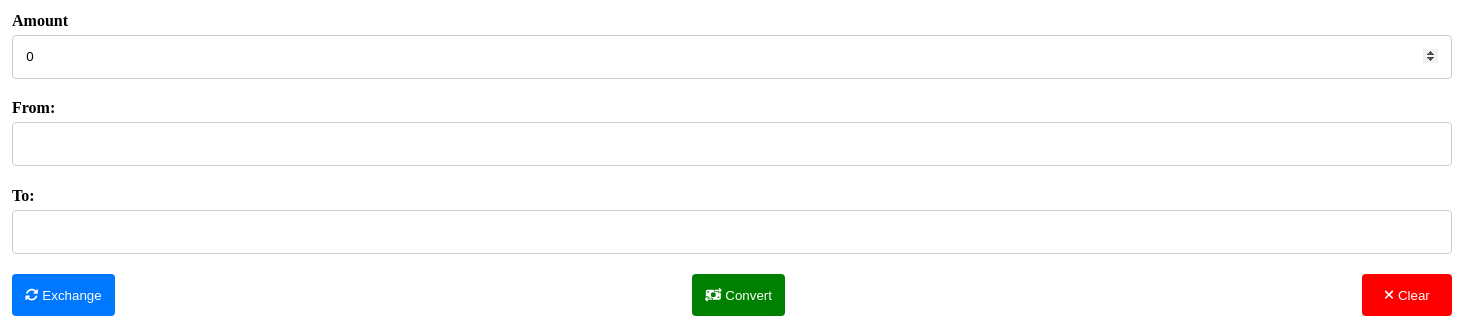
Test: currenciesForm Component › check if button clean if work
Replace the text in the number field labelled "Amount" with "20" at (732, 57), box [12, 35, 1452, 79]
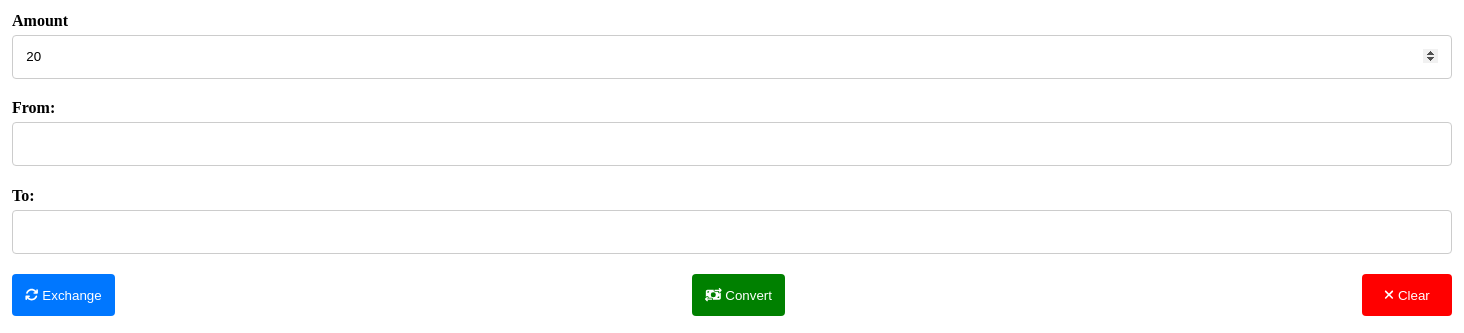
Type "ALL - Albanian Lek" into the field labelled "From:" at (732, 144), box [12, 122, 1452, 166]
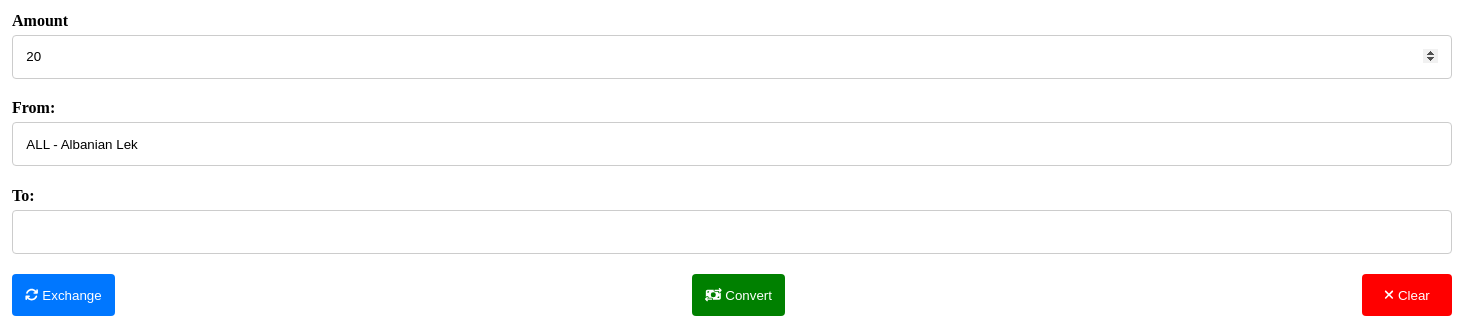
Type "USD - United States Dollar" into the field labelled "To:" at (732, 232), box [12, 210, 1452, 254]
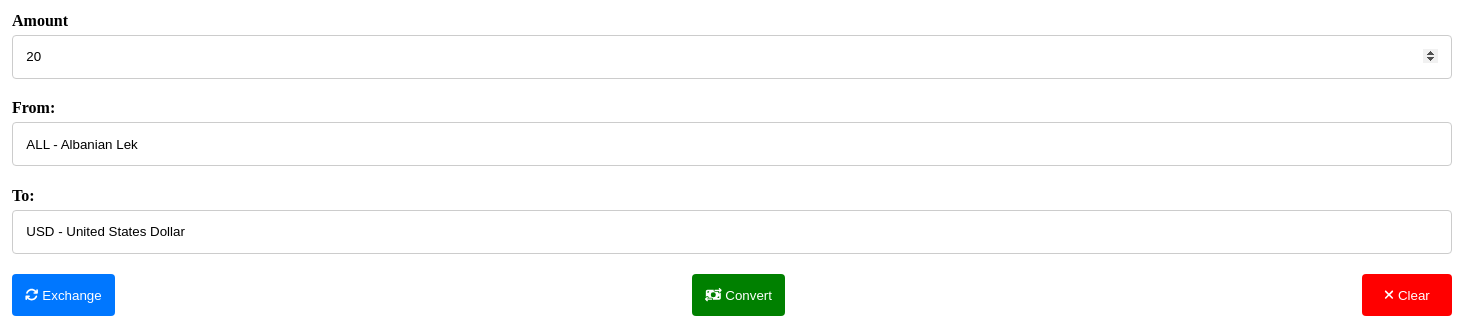
Click the button "Clear" at (1407, 295), box [1362, 274, 1452, 316]
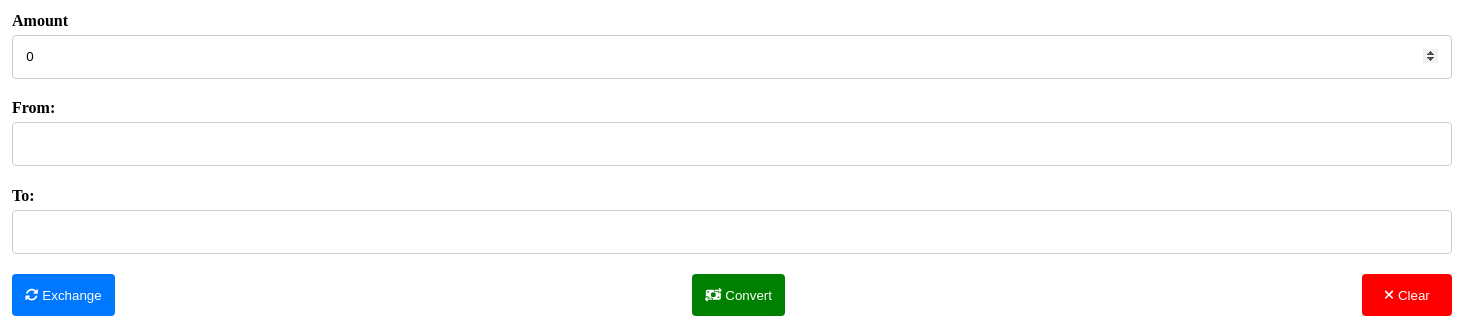
Expected: the number field labelled "Amount" holds "0", [12, 35, 1452, 79]
Expected: the field labelled "From:" is empty, [12, 122, 1452, 166]
Expected: the field labelled "To:" is empty, [12, 210, 1452, 254]
